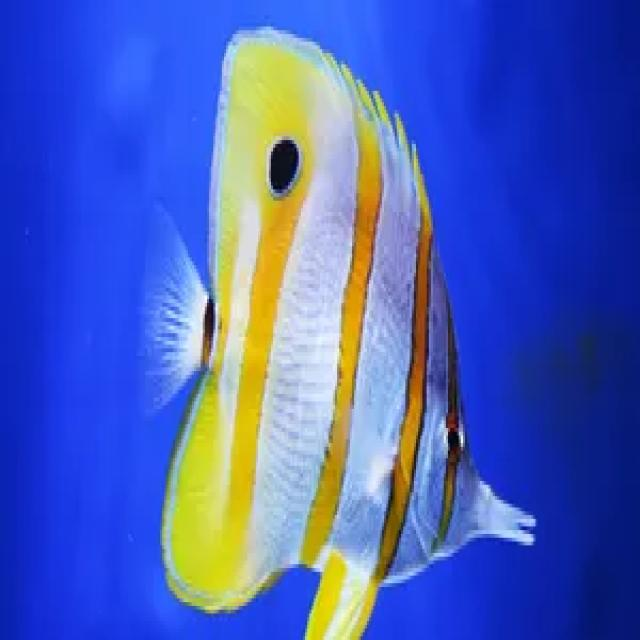ButterflyFish: (156, 34, 546, 633)
